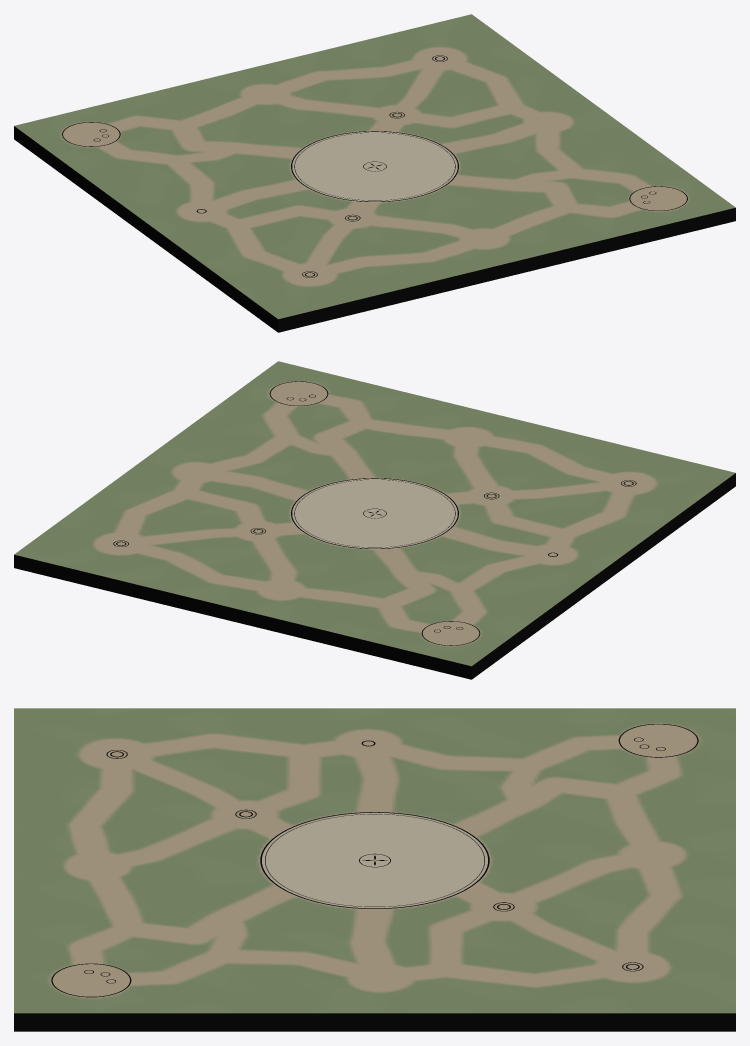
Rendered from SM_R01HQ_Ground_and_Trails.fbx.
The picture shows the model from 3 angles, top to bottom: view 1: azimuth 30°, elevation 25°; view 2: azimuth 150°, elevation 25°; view 3: azimuth 270°, elevation 25°; orthographic projection. The views are drawn at different scales.
Parts seen in each view (by area): view 1: SM_R01HQ_Ground_and_Trails; view 2: SM_R01HQ_Ground_and_Trails; view 3: SM_R01HQ_Ground_and_Trails.
Part boxes in pixels (x1=…): SM_R01HQ_Ground_and_Trails: x1=14, y1=14, x2=735, y2=332; SM_R01HQ_Ground_and_Trails: x1=14, y1=361, x2=735, y2=679; SM_R01HQ_Ground_and_Trails: x1=14, y1=708, x2=735, y2=1031.
Bounding box in the file's own units: 11200 × 11200 × 320.
